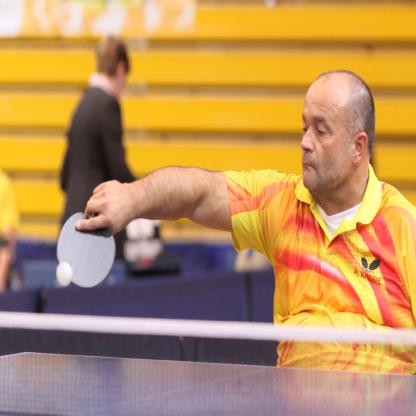Ball: (56, 262, 72, 286)
